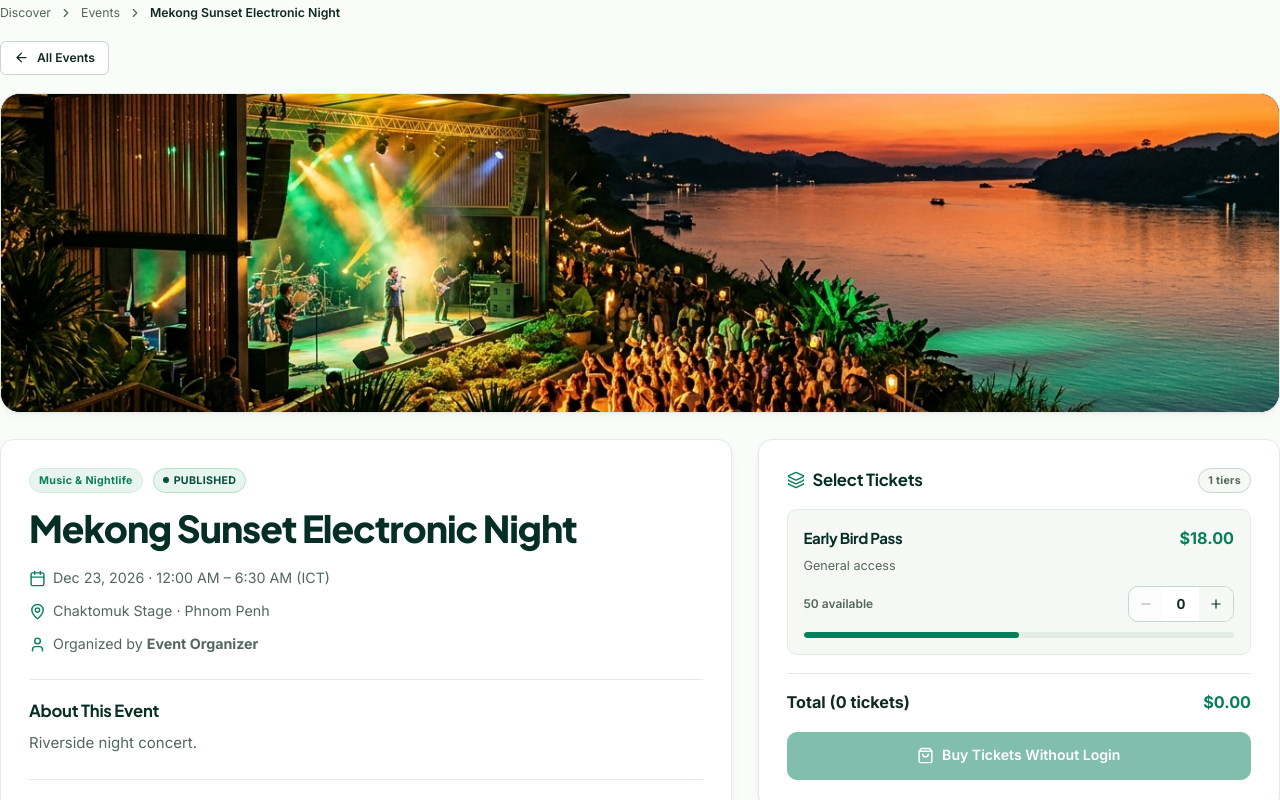
it: Frontend Components & Role-Based UI › allows guest buyers to reserve tickets without logging in from EventDetailPage
Expected: the heading "Early Bird Pass" is shown, [804,529,902,546]
Click the button named "Increase Early Bird Pass".
click(1216, 604)  # box [1199,587,1233,621]
(page scrolled)
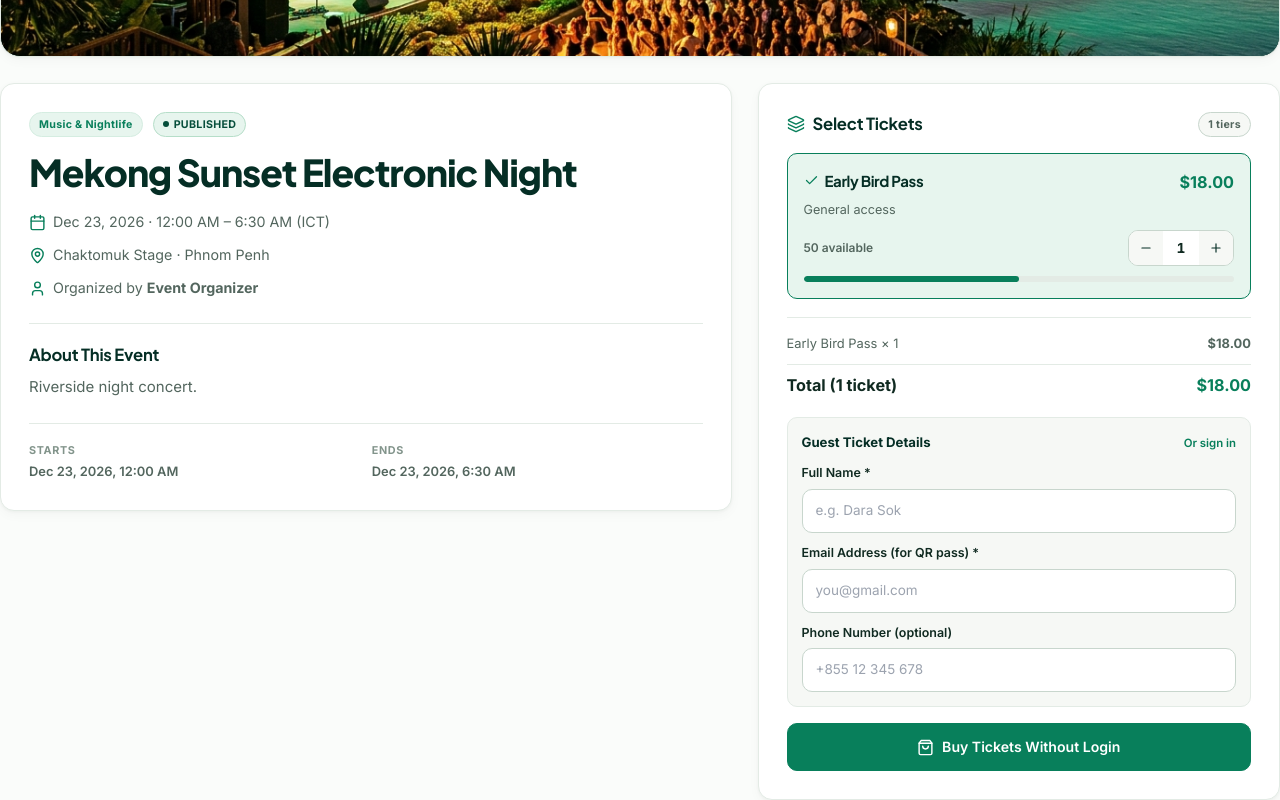
Type "Dara Sok" into the field labelled "Full Name *".
click(1019, 511); type("Dara Sok")  # box [802,489,1236,533]
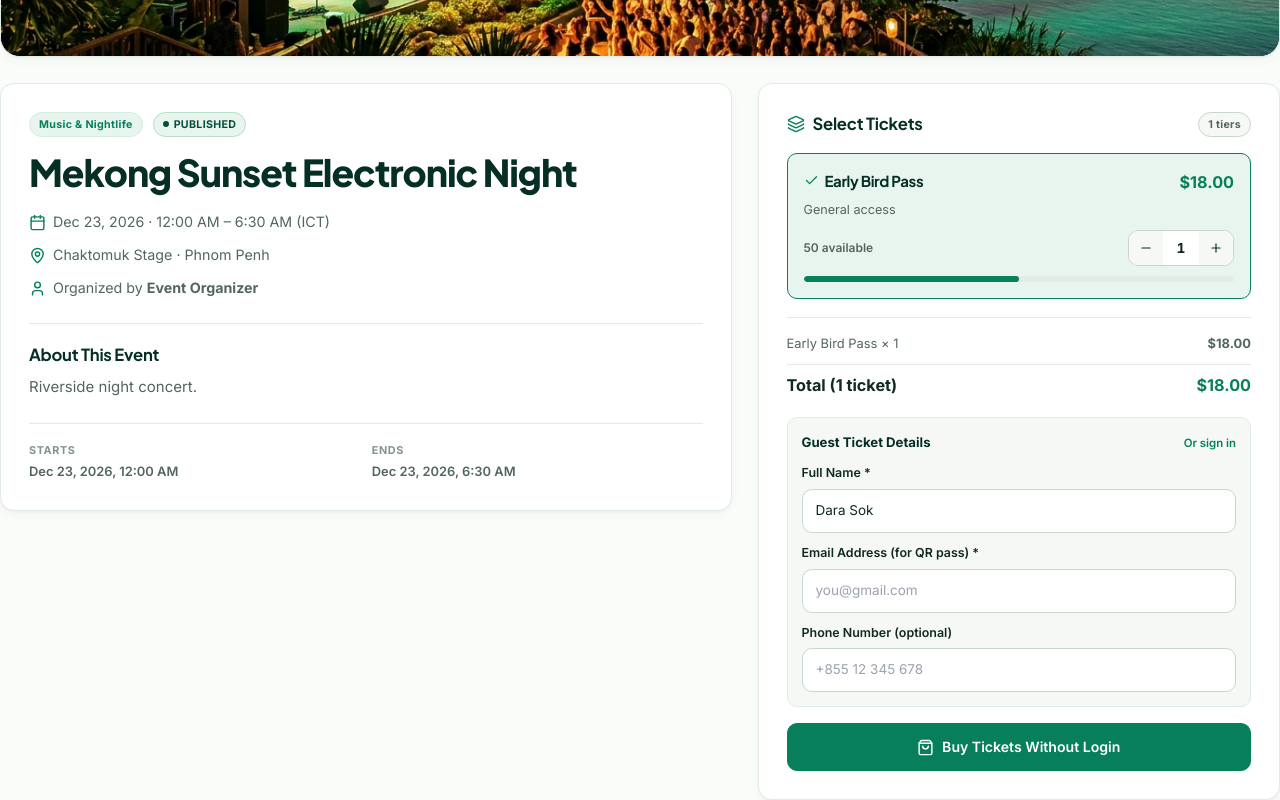
Type "dara@gmail.com" into the field labelled "Email Address (for QR pass) *".
click(1019, 591); type("dara@gmail.com")  # box [802,569,1236,612]
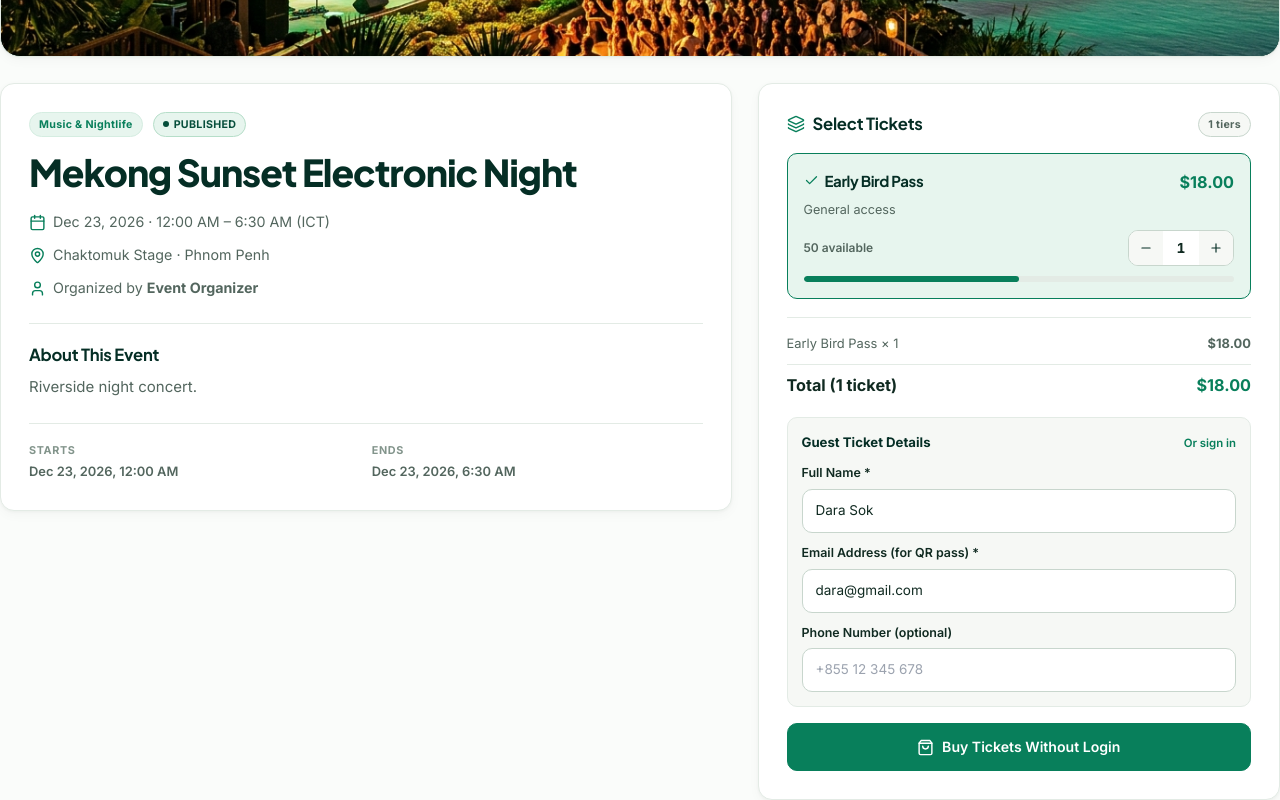
Click the button "Buy Tickets Without Login".
click(1019, 747)  # box [786,723,1251,771]
(page scrolled)
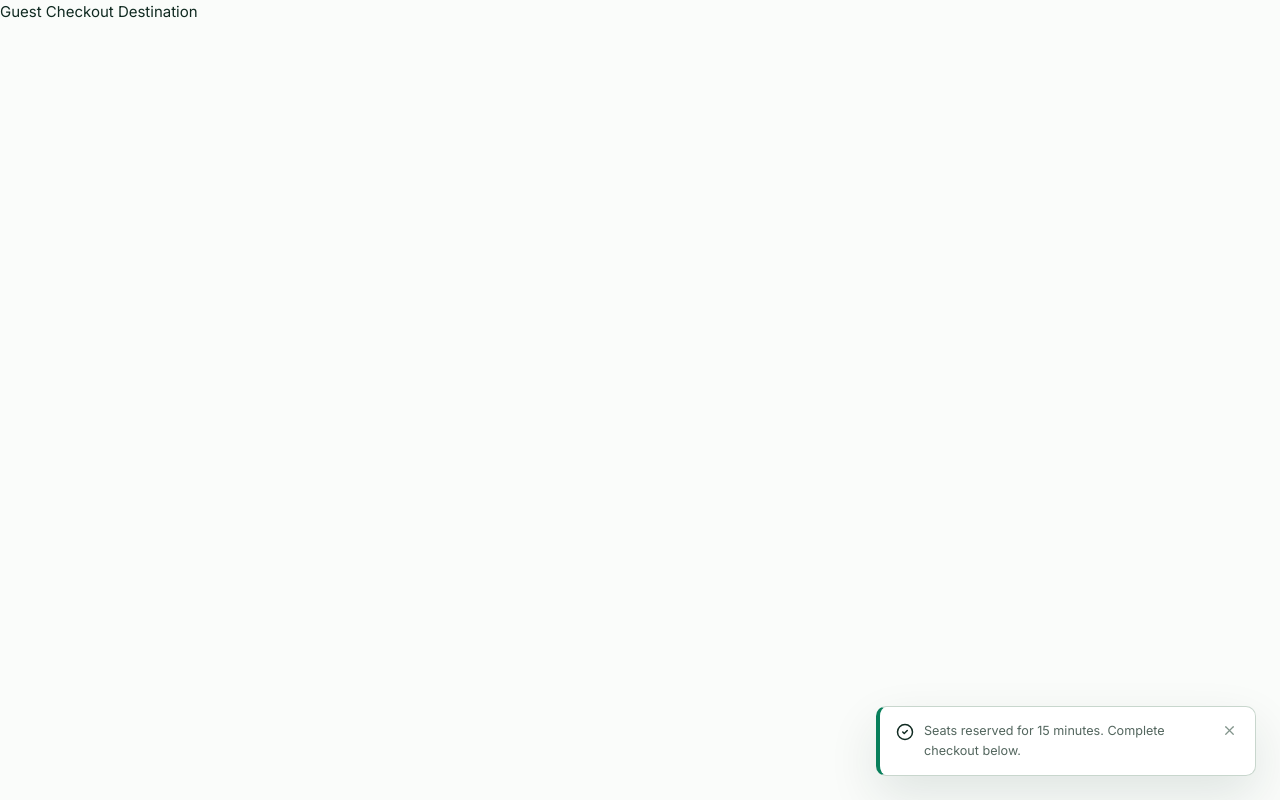
Expected: the text "Guest Checkout Destination" is shown, [0,2,198,21]
